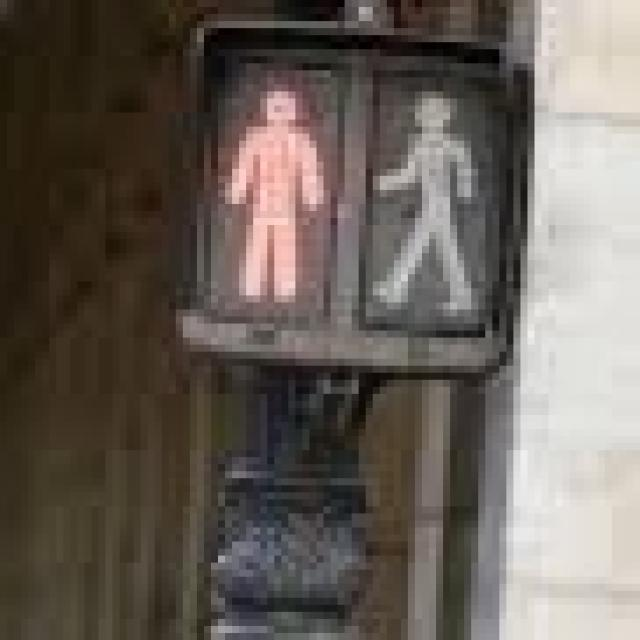red_light: (183, 28, 330, 324)
